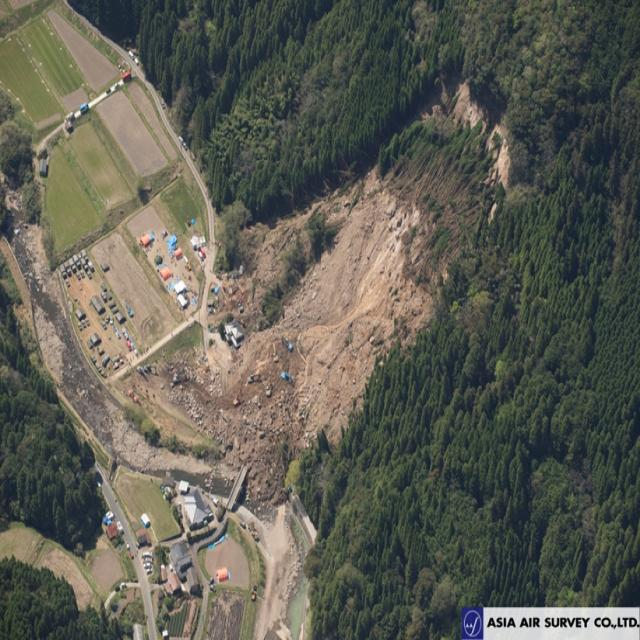Debris-flow: (220, 167, 460, 485), (424, 81, 510, 187)
